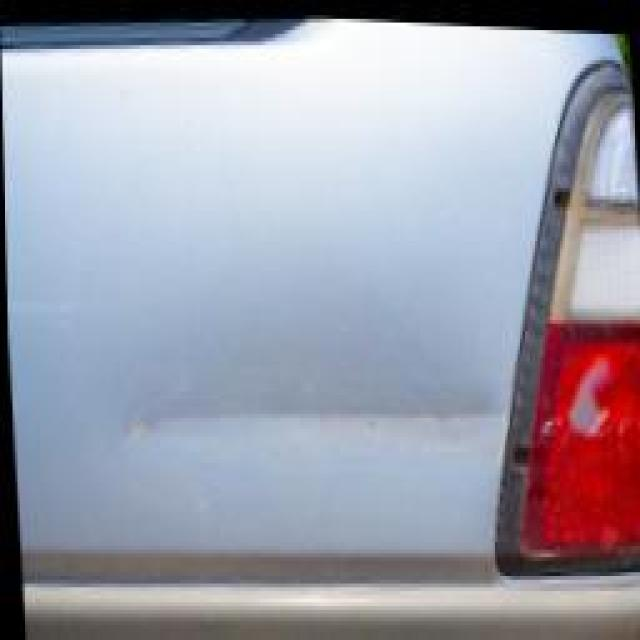Dickey: (88, 328, 526, 505)
Light: (525, 312, 639, 506)
